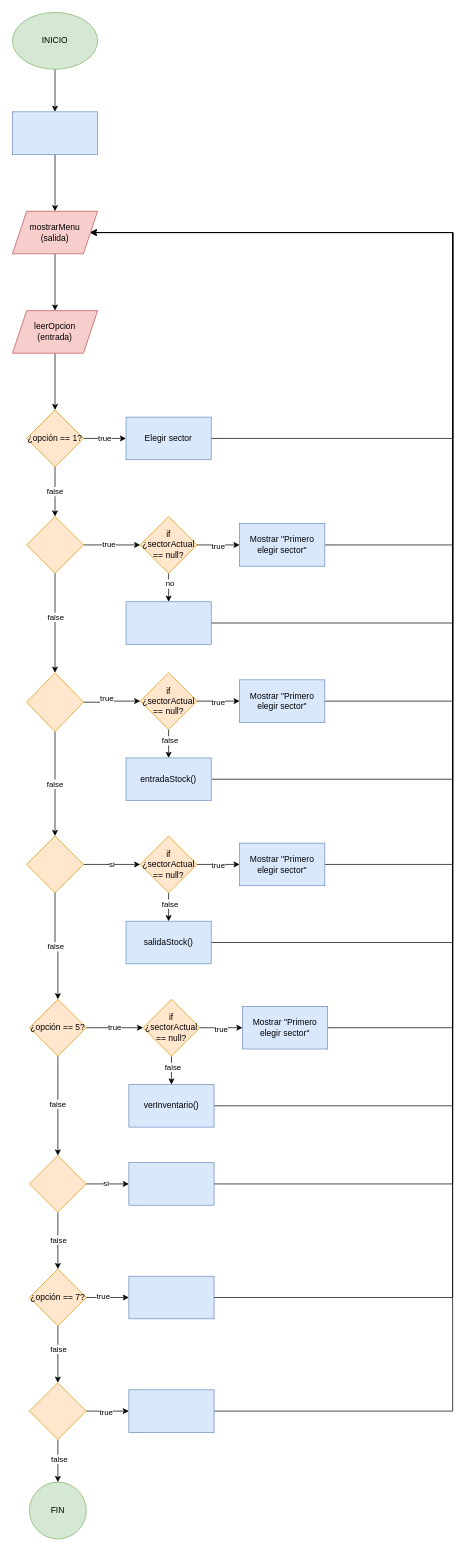
This 471x1551 diagram has some shape labels left out. Here are the shapes that lost their labels. From the top down, the centre of each, then its label:
point 55,132: sectorActual = null
point 54,544: ¿opción == 2?
point 168,622: else altaProducto()
point 54,702: ¿opción == 3?
point 54,864: ¿opción == 4?
point 57,1183: ¿opción == 6?
point 171,1183: buscarGlobal()
point 171,1297: reporteTurno()
point 57,1411: ¿opción != 0?
point 171,1410: Mostrar "Opción inválida"
